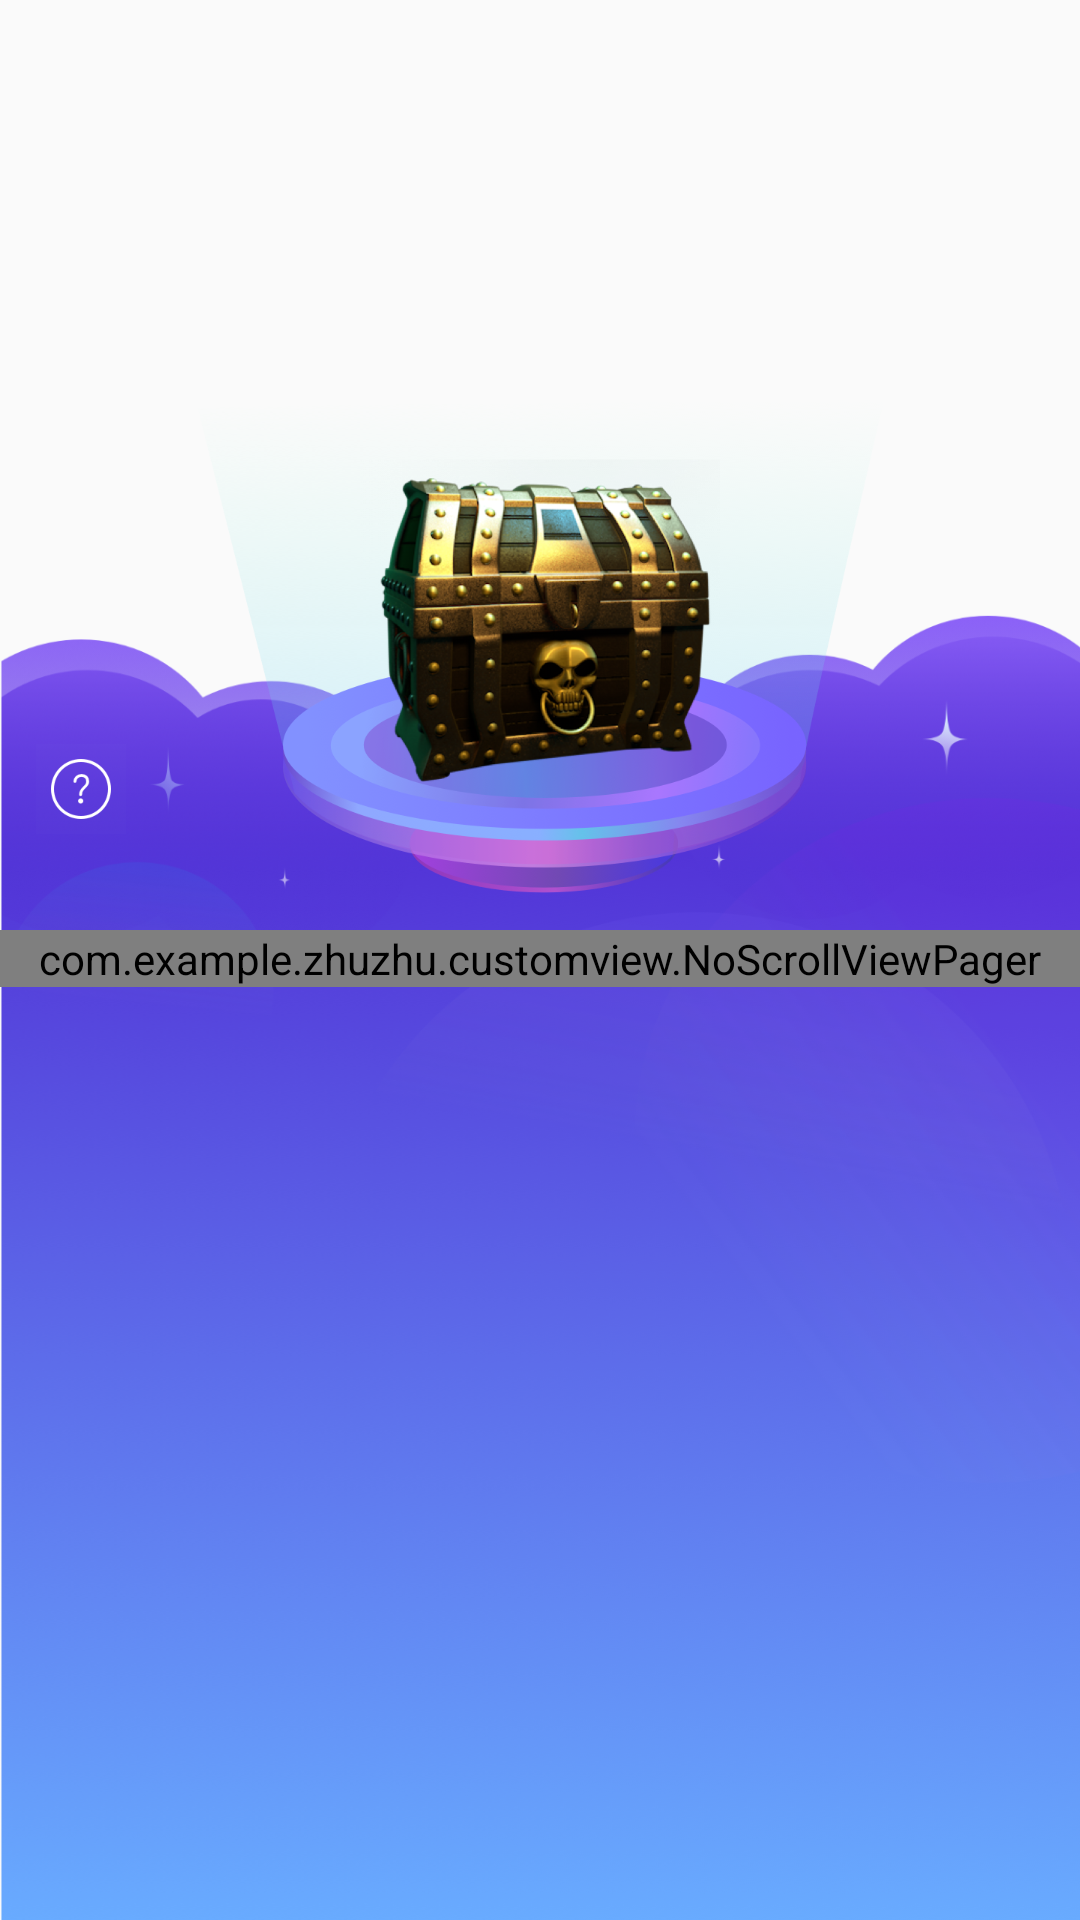

Where icons sit on this 1080w x 1920h app screen, as (x1, y1, x2, y2):
box help: (51, 759, 111, 819)
